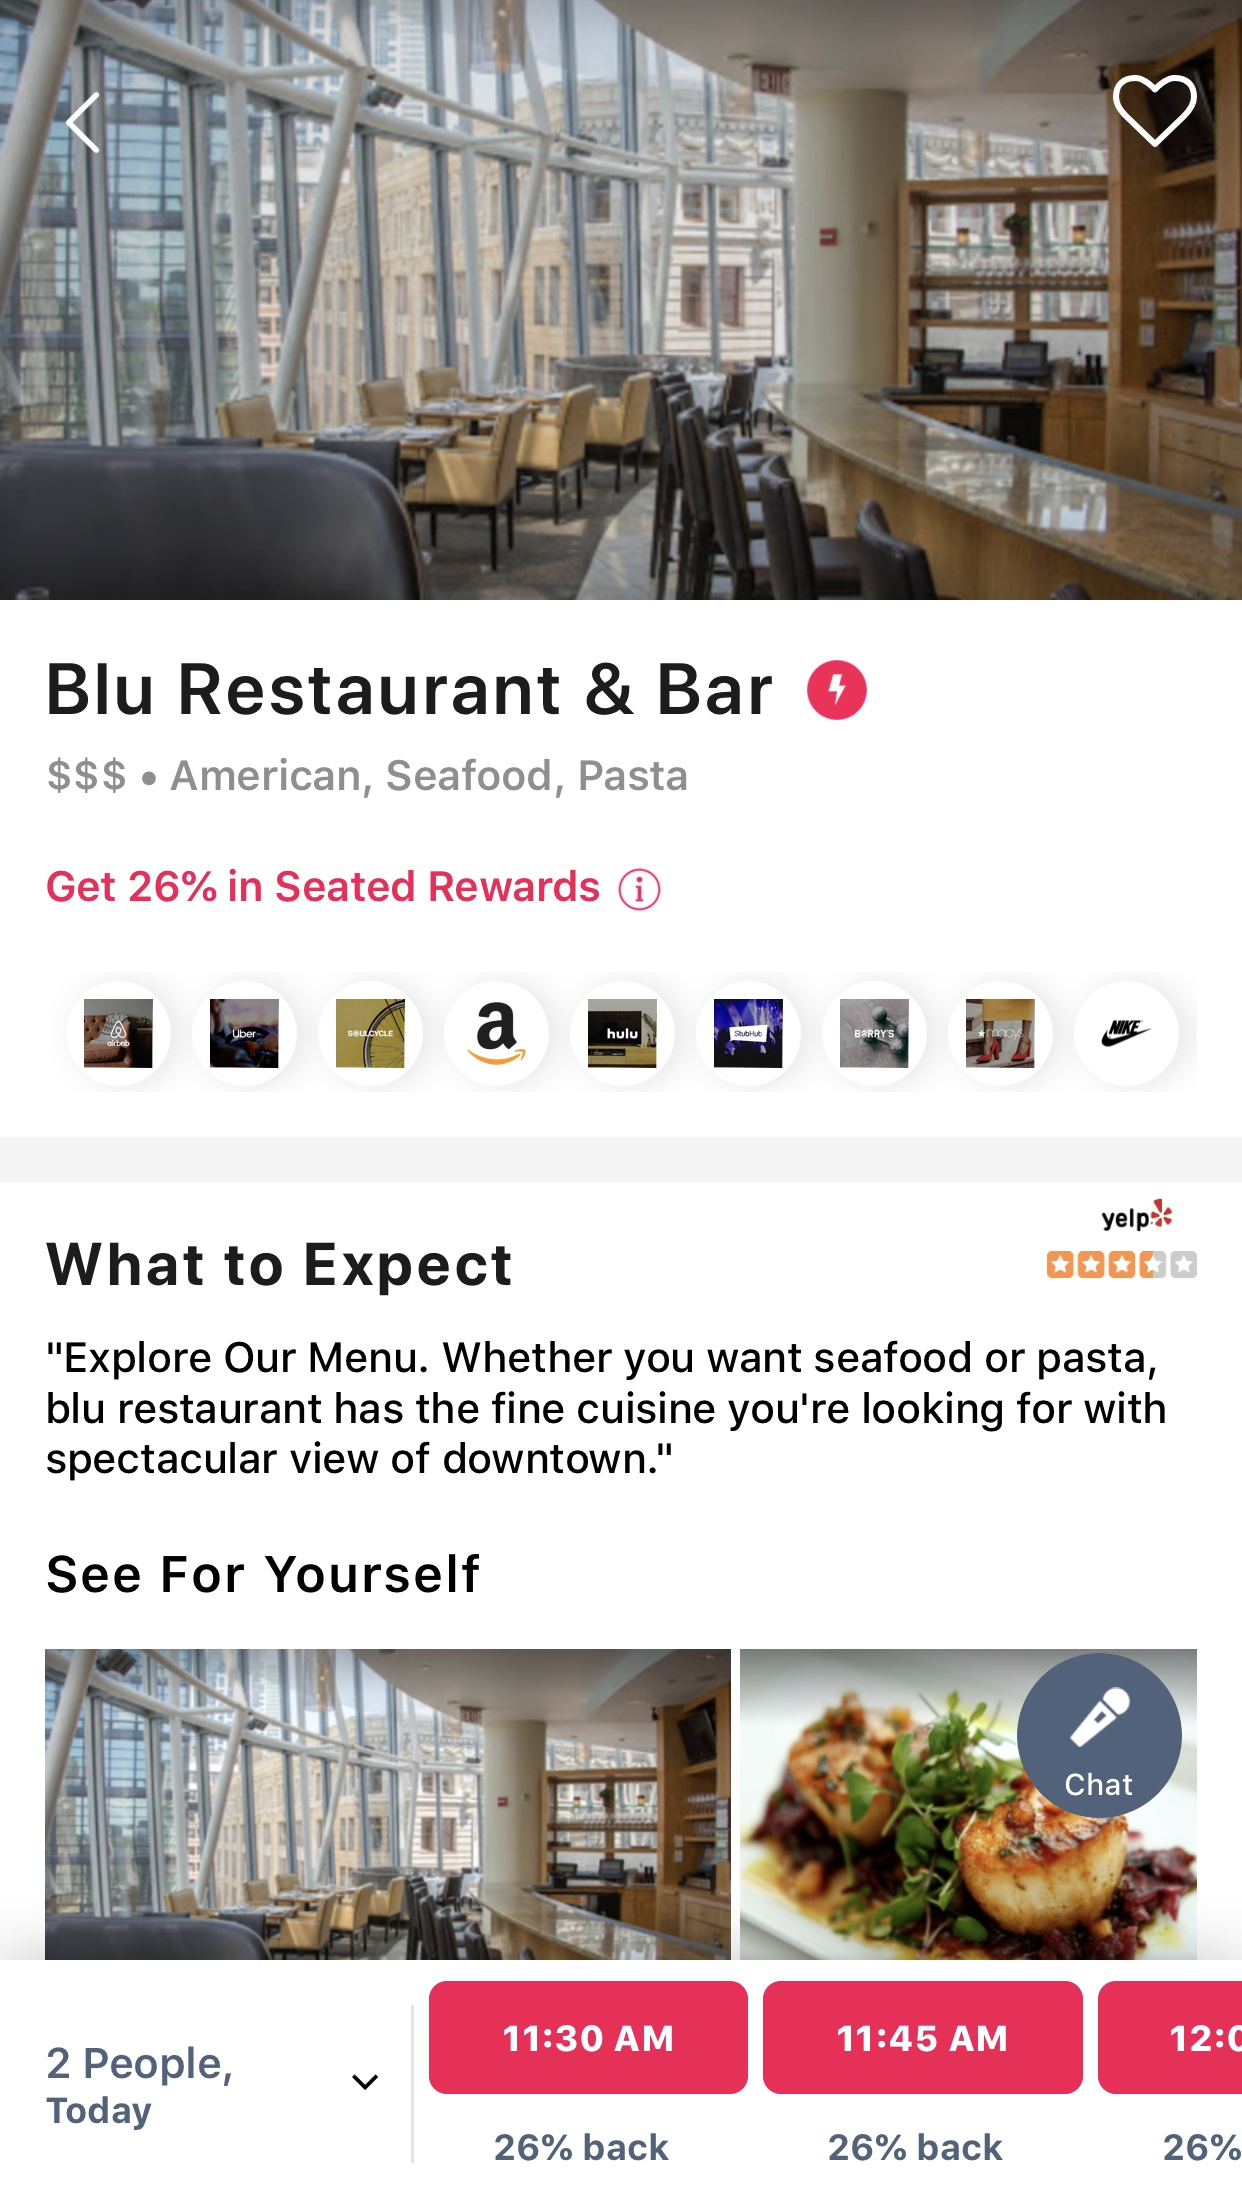Icon: (1112, 74, 1198, 150), (1046, 1251, 1197, 1278), (65, 93, 102, 156), (619, 867, 663, 911), (352, 2073, 381, 2091)
Image: (2, 2, 1242, 601), (45, 1648, 732, 1961), (740, 1648, 1197, 1961), (444, 980, 550, 1087), (193, 981, 299, 1087), (318, 981, 425, 1087), (570, 981, 676, 1087), (822, 981, 928, 1087), (948, 981, 1054, 1087), (1074, 981, 1180, 1087), (67, 981, 171, 1087), (696, 983, 802, 1087), (1069, 1686, 1131, 1749), (807, 660, 867, 720), (1102, 1198, 1174, 1231)
Text: (49, 1341, 1166, 1482), (49, 663, 773, 716), (49, 757, 688, 801), (45, 1242, 513, 1297), (47, 869, 601, 904), (49, 1553, 481, 1594), (47, 2046, 234, 2131), (494, 2132, 670, 2163), (828, 2132, 1004, 2163), (1163, 2132, 1242, 2161), (1065, 1771, 1133, 1797)
TextButton: (763, 1981, 1084, 2094), (429, 1981, 749, 2094), (1096, 1981, 1242, 2094)
